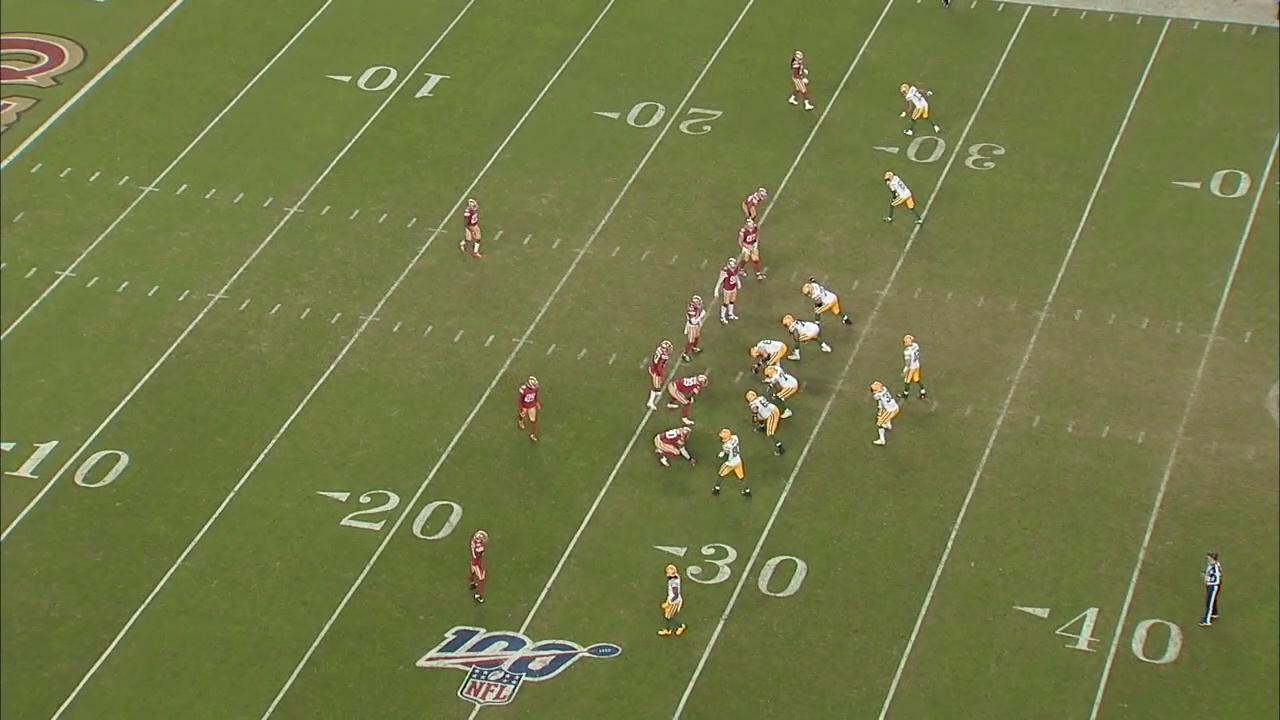player: (710, 427, 755, 502), (744, 390, 787, 458), (896, 79, 944, 139), (800, 275, 852, 326), (781, 316, 835, 364), (880, 169, 923, 229), (665, 371, 712, 425), (656, 562, 689, 638), (511, 373, 543, 450), (896, 333, 930, 402), (869, 379, 900, 448), (464, 530, 491, 608), (712, 256, 742, 326), (652, 426, 697, 469), (736, 220, 767, 282), (679, 294, 706, 365), (764, 364, 798, 420), (784, 50, 814, 113), (646, 341, 672, 413), (456, 196, 484, 259), (747, 336, 787, 373), (743, 185, 771, 222)
ref: (1198, 550, 1226, 633)
